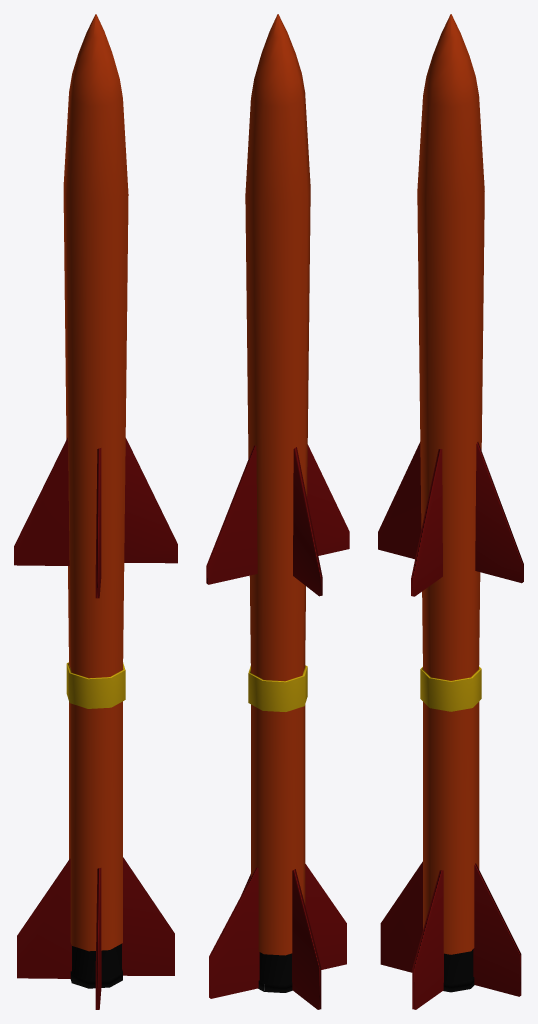
The model's file is Rocket.fbx.
3 views of the same model, side by side, from view 1: azimuth 30°, elevation 25°; view 2: azimuth 150°, elevation 25°; view 3: azimuth 270°, elevation 25° (orthographic).
Parts seen in each view (by area): view 1: Rocket_Geo; view 2: Rocket_Geo; view 3: Rocket_Geo.
Boxes of the visible parts, bbox=[...] form: Rocket_Geo: bbox=[14, 14, 177, 1009]; Rocket_Geo: bbox=[206, 14, 349, 1009]; Rocket_Geo: bbox=[378, 14, 523, 1009].
Bounding box in the file's own units: 12.05 × 87.42 × 11.96.
